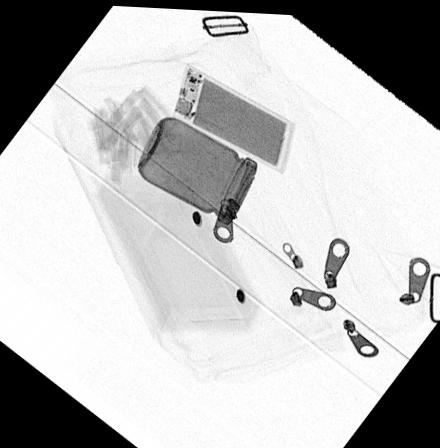Powerbank: (171, 60, 294, 169)
